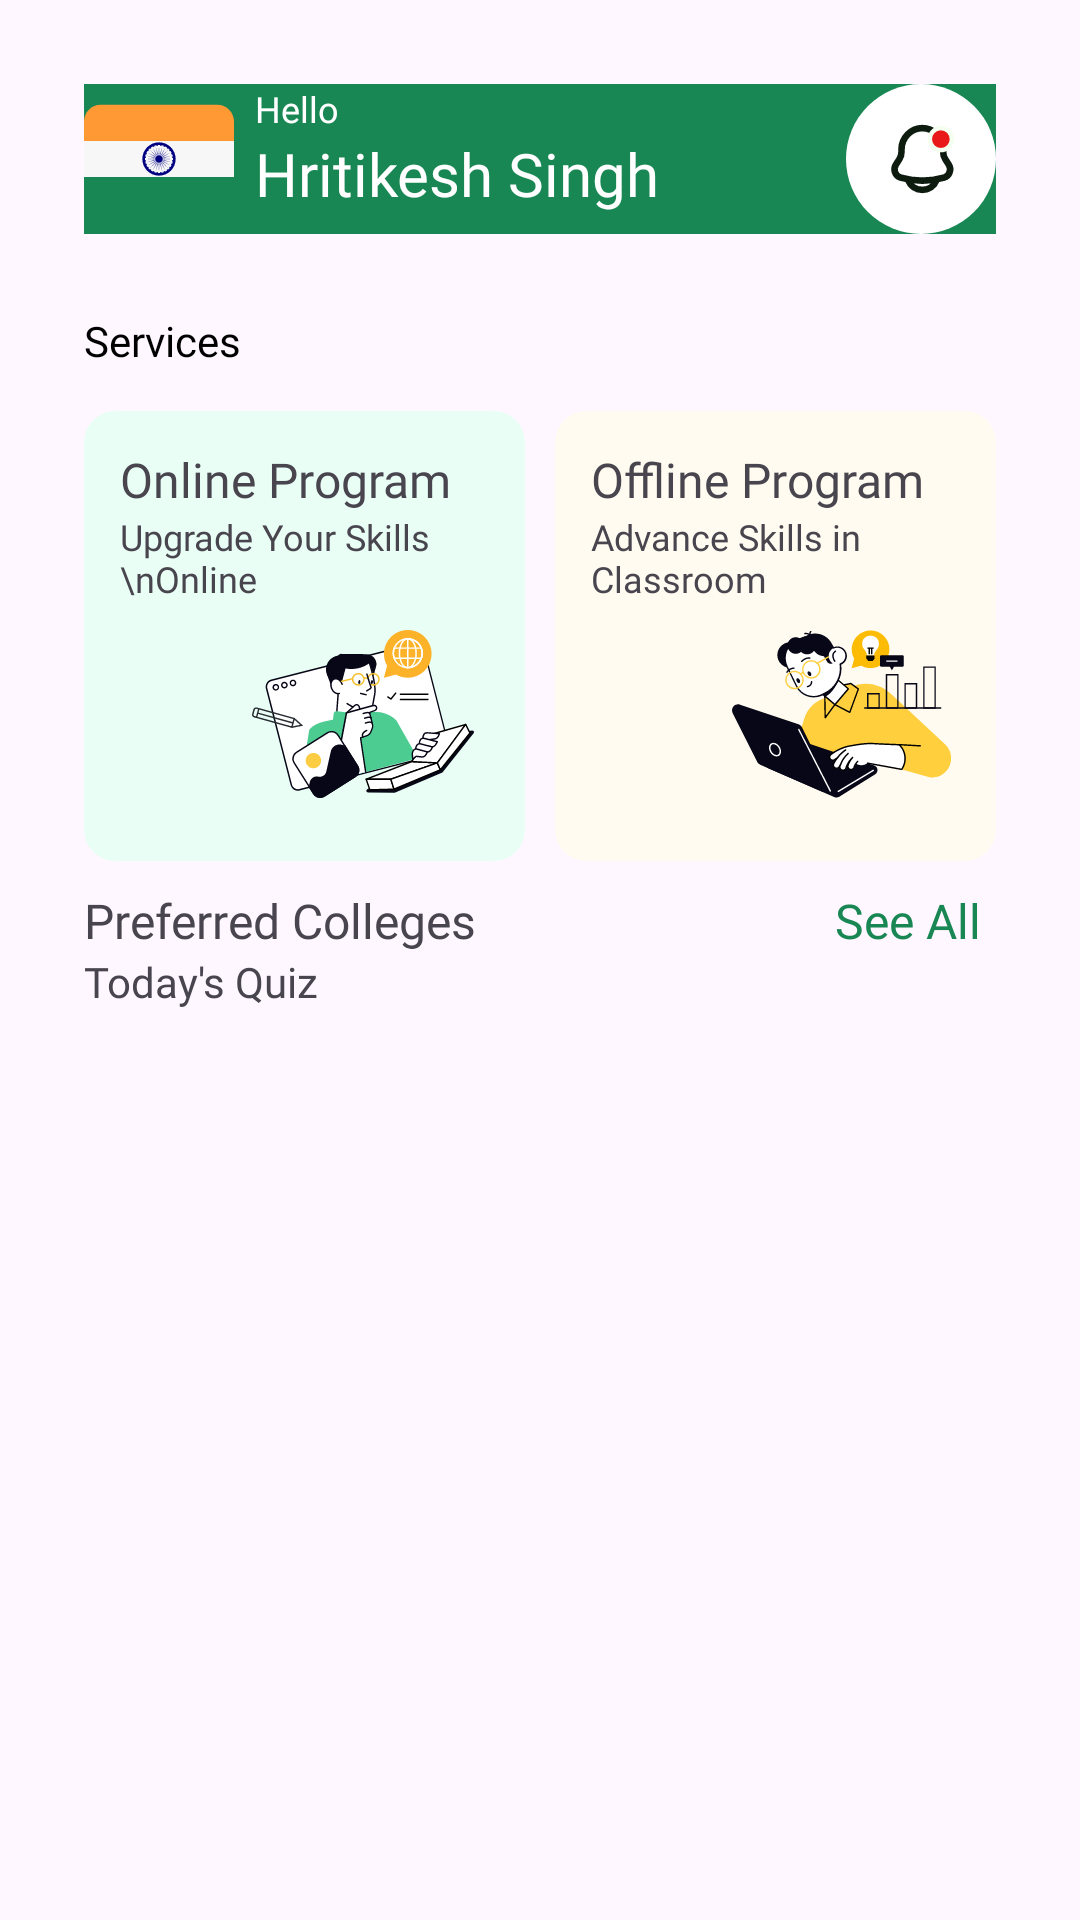

Icons on this 1080px×1920px Android screen, each with its box as (x1, y1, x2, y2):
india: (84, 84, 234, 234)
notifications: (891, 84, 996, 234)
